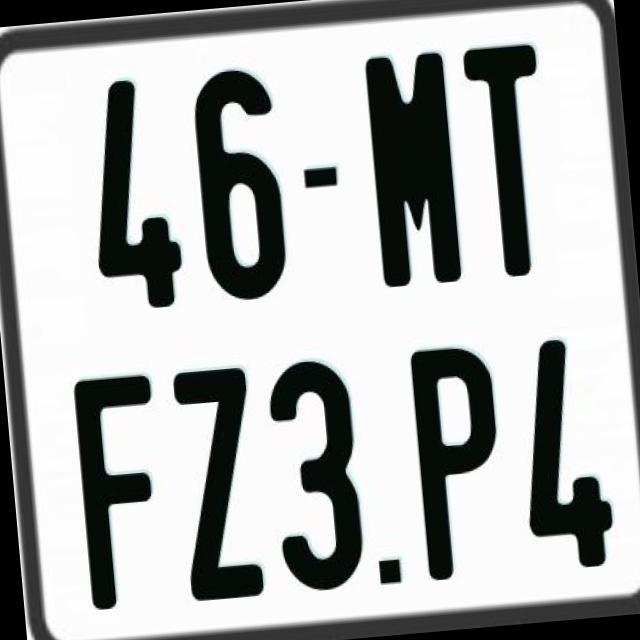3: (262, 354, 369, 600)
4: (82, 72, 185, 312), (514, 334, 618, 571)
6: (190, 64, 288, 300)
F: (72, 372, 177, 618)
M: (362, 49, 467, 287)
P: (407, 340, 512, 586)
T: (460, 38, 558, 278)
Z: (168, 368, 262, 606)
